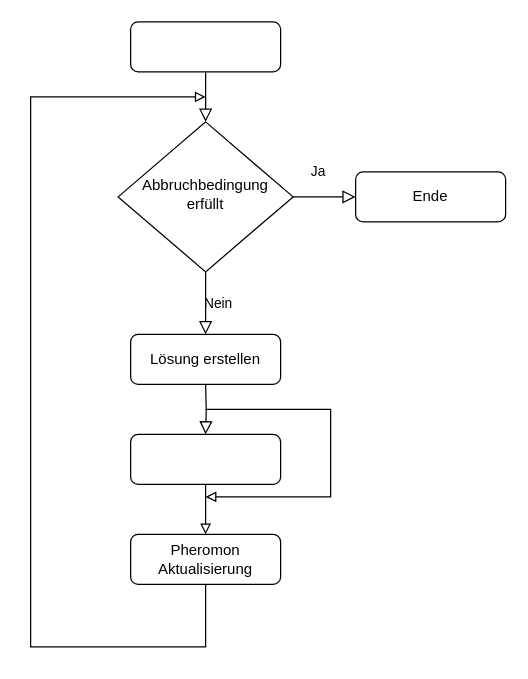
This 528x679 diagram has some shape labels left out. The box of each missing label's shape, as (x1, y1, x2, y2) in pixels:
Initialisierung: (129, 21, 281, 72)
Lokale Optimierung: (129, 433, 281, 484)
